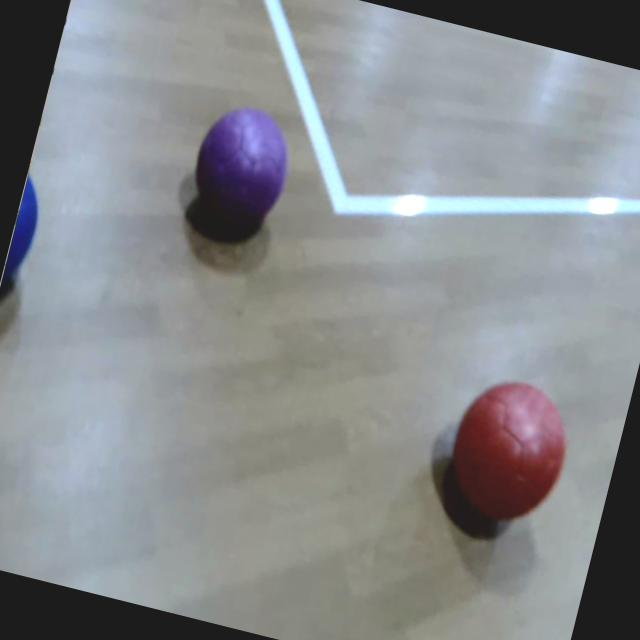purple_ball: (180, 94, 304, 242)
red_ball: (436, 368, 580, 538)
